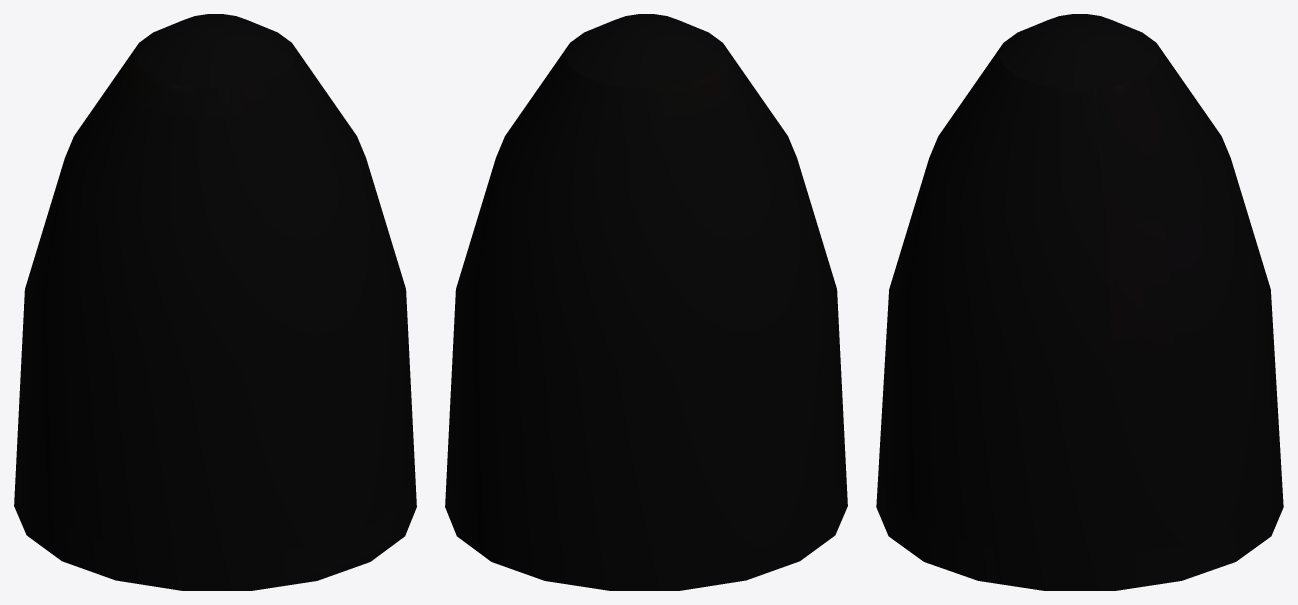
File: handmade_shell_bullet.glb
3 views of the same model, side by side, from view 1: azimuth 30°, elevation 25°; view 2: azimuth 150°, elevation 25°; view 3: azimuth 270°, elevation 25° (orthographic).
Parts seen in each view (by area): view 1: handmade_shell_bullet; view 2: handmade_shell_bullet; view 3: handmade_shell_bullet.
Part boxes in pixels (left/top/right/bottom): handmade_shell_bullet: left=14, top=14, right=416, bottom=590; handmade_shell_bullet: left=445, top=14, right=847, bottom=590; handmade_shell_bullet: left=876, top=14, right=1283, bottom=590.
Size of the model in its own units: 0.0123 by 0.0165 by 0.0127.
1 material, 1 textured.
